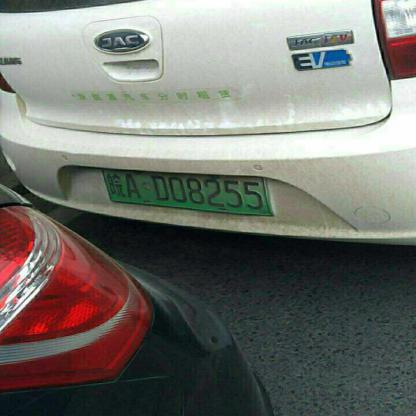lp: (99, 168, 273, 216)
